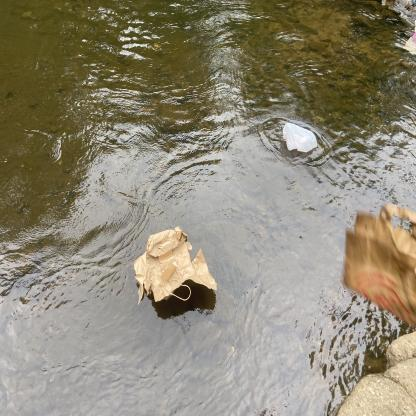trash: (337, 198, 416, 337), (129, 224, 220, 310), (279, 118, 322, 158)
